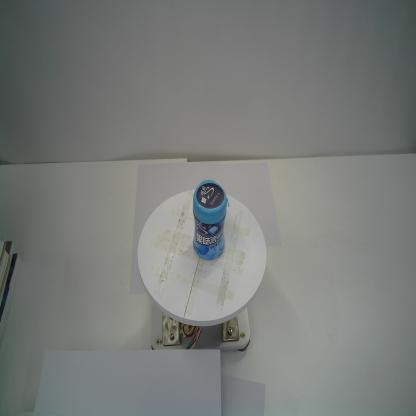Gum: (192, 179, 230, 261)
